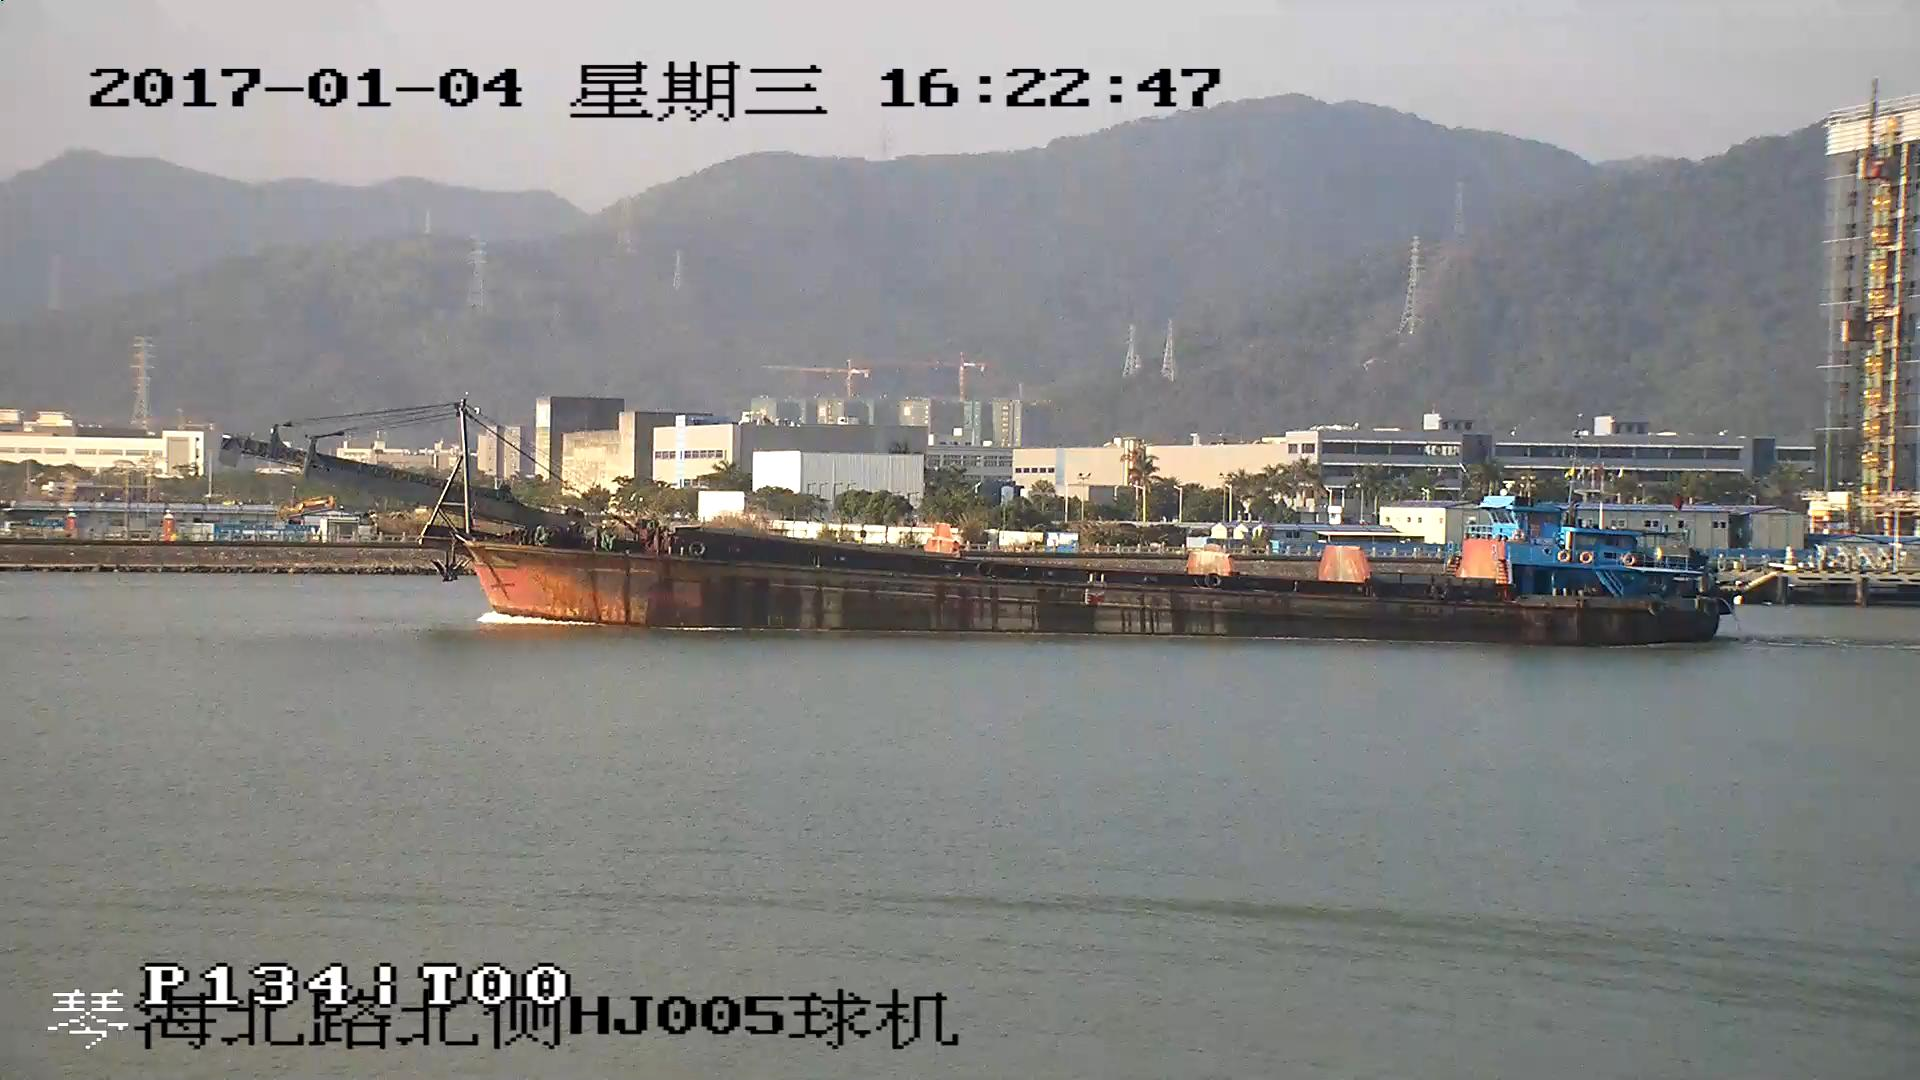bulk cargo carrier: (216, 395, 1732, 643)
